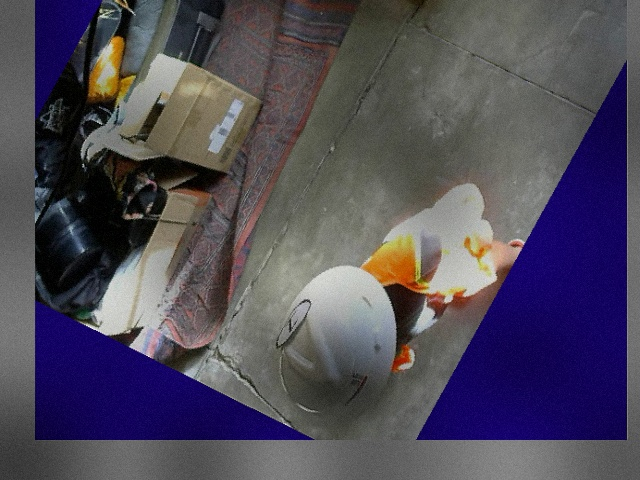one: (273, 295, 312, 349)
